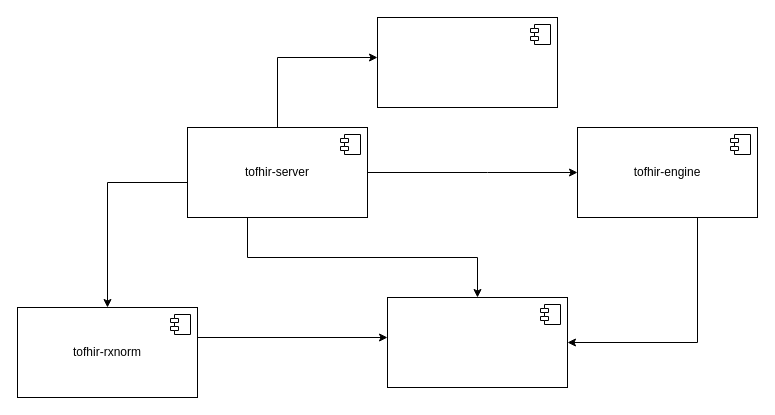
Image size: 775x415. Some labels were removed from this diagram. The shapes that lost their labels are listed below. From the top down, each one's centre as x and y in pixels, then its label:
the point at 467,62: tofhir-server-common
the point at 477,342: tofhir-common
